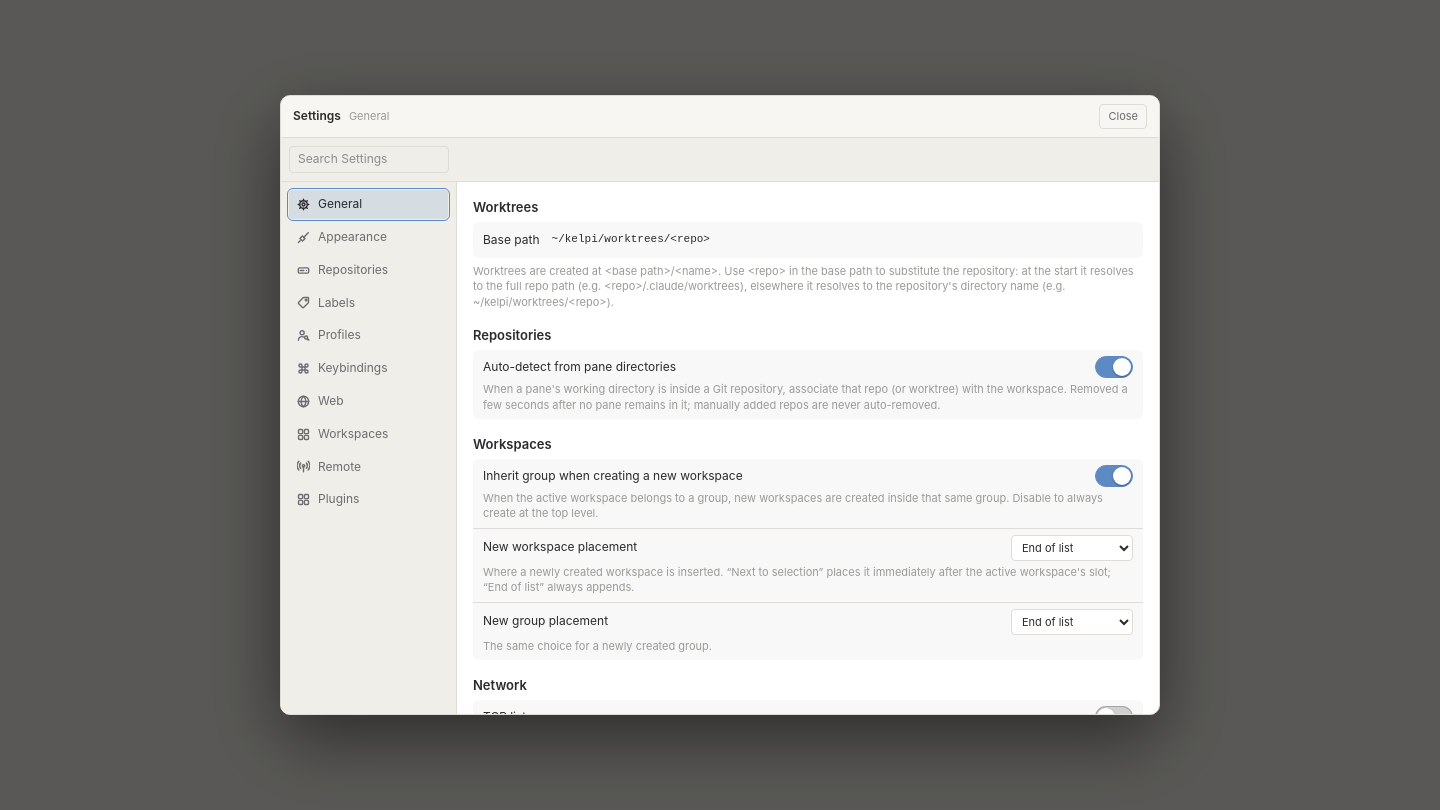
it: the Settings window › carries a toolbar strip that names the current tab
Check: the element with test id "settings-toolbar" shows "Settings", box [293,108,341,123]
Check: the element with test id "settings-toolbar" shows "General", box [349,109,389,123]
Step 1. Click the tab with test id "settings-tab-button-labels" → point(368, 303), box [289,289,448,317]
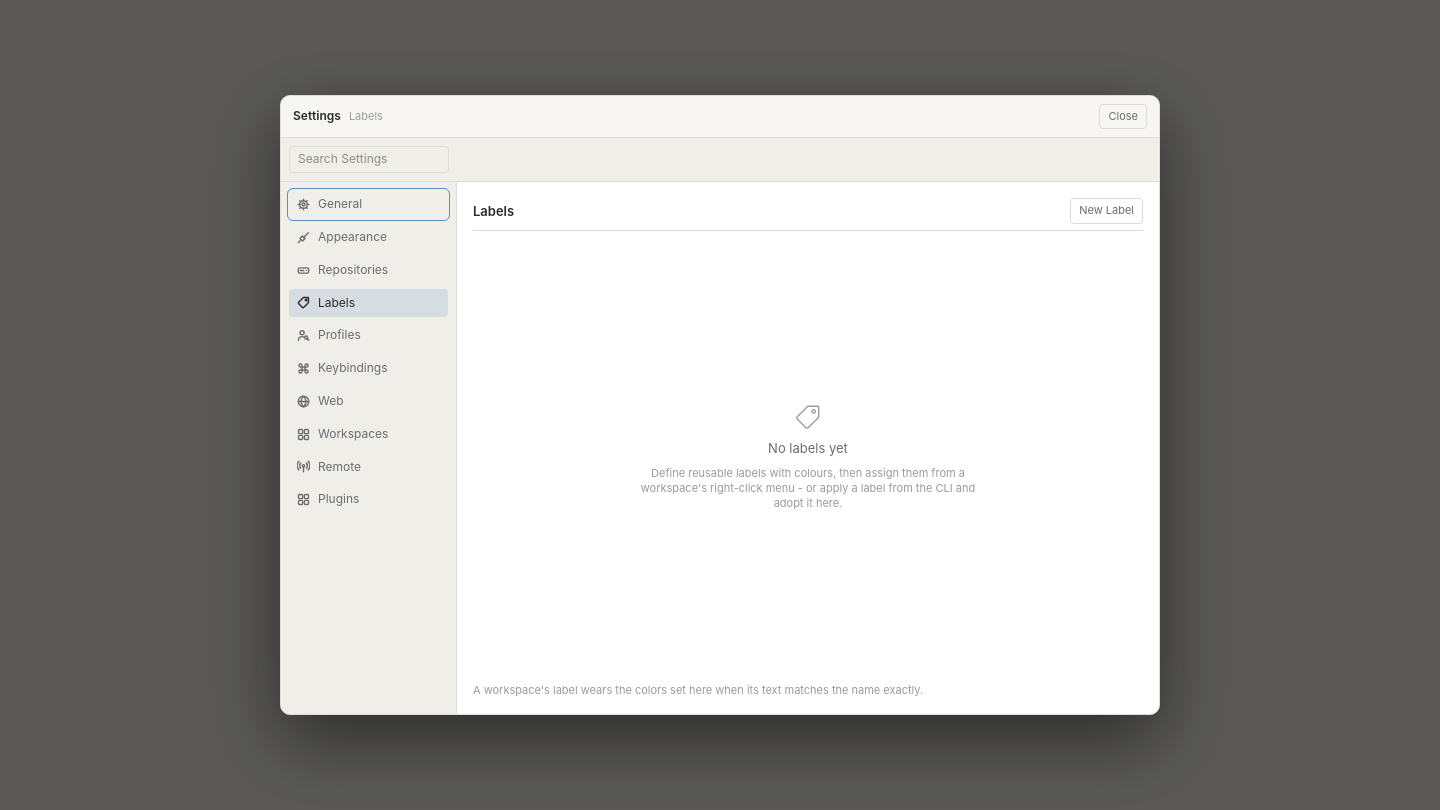
Check: the element with test id "settings-toolbar" shows "Labels", box [349,109,383,123]
